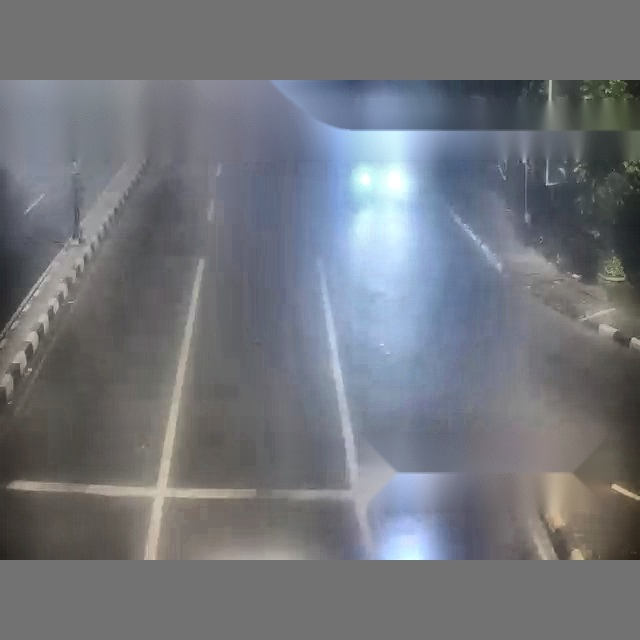Bis: (128, 36, 640, 556)
